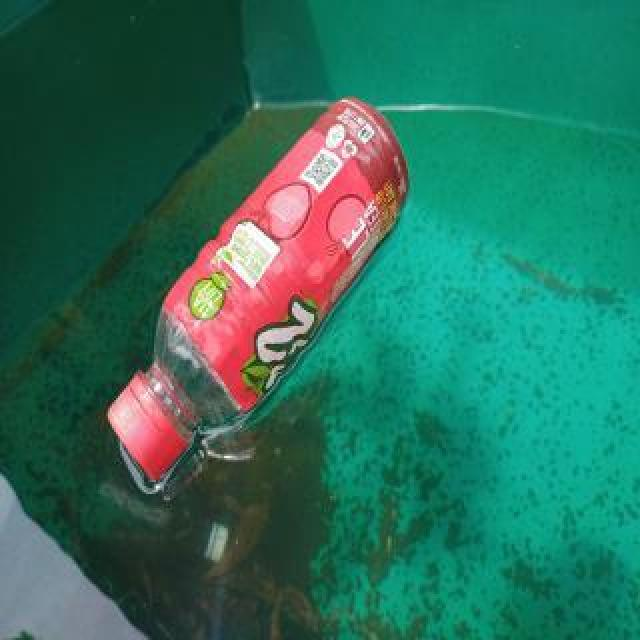bottle: (104, 95, 410, 483)
